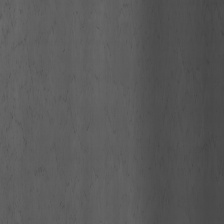silk_spot: (10, 25, 81, 176)
